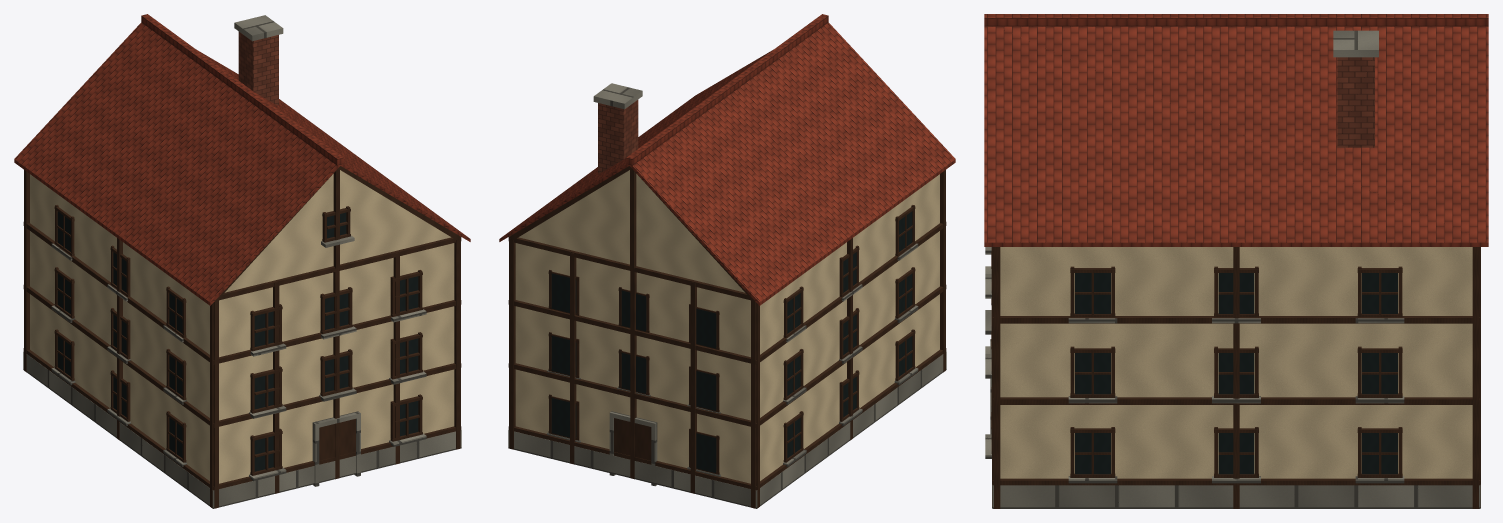
Rendered from SG_House_A_Gable_LOD1.fbx.
3 views of the same model, side by side, from view 1: azimuth 30°, elevation 25°; view 2: azimuth 150°, elevation 25°; view 3: azimuth 270°, elevation 25° (orthographic). The views are drawn at different scales.
Parts seen in each view (by area): view 1: SG_House_A_Gable_Detail1; view 2: SG_House_A_Gable_Detail1; view 3: SG_House_A_Gable_Detail1.
Boxes of the visible parts, x1=… form: SG_House_A_Gable_Detail1: x1=14, y1=14, x2=470, y2=508; SG_House_A_Gable_Detail1: x1=499, y1=14, x2=955, y2=508; SG_House_A_Gable_Detail1: x1=984, y1=14, x2=1488, y2=508.
Bounding box in the file's own units: 19.4 × 23.95 × 25.3.
